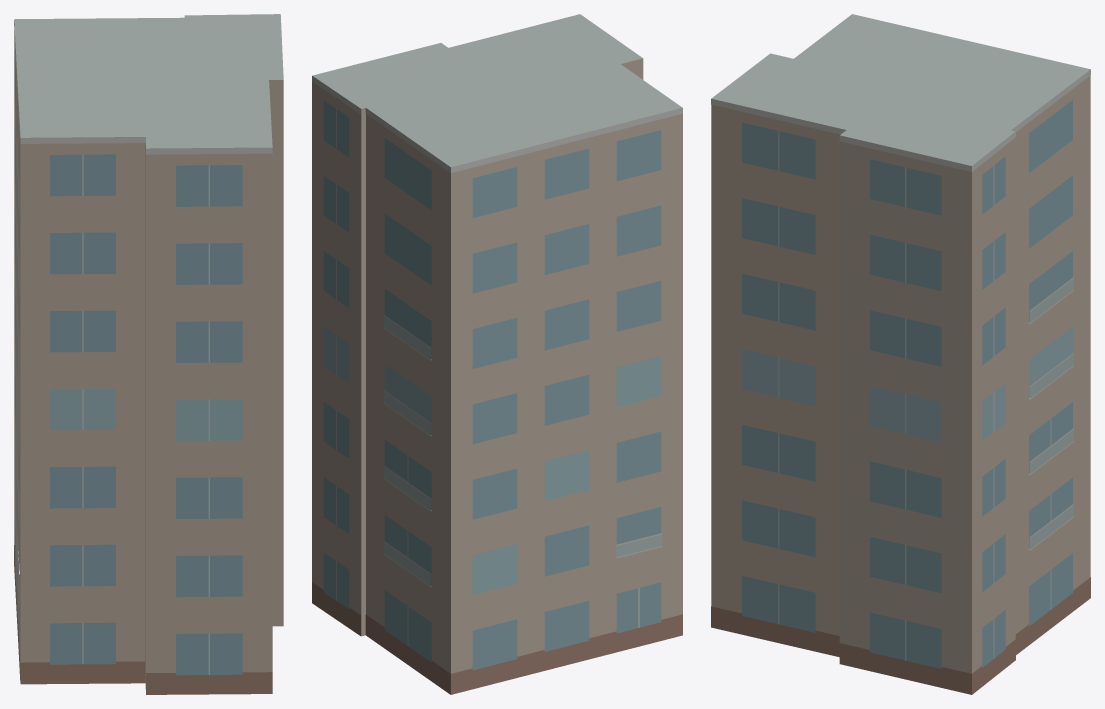
The model's file is survey-upis-32713622.glb.
3 renders of one model, left to right at view 1: azimuth 30°, elevation 25°; view 2: azimuth 150°, elevation 25°; view 3: azimuth 270°, elevation 25°, orthographic. The views are drawn at different scales.
Visible parts, largest first — view 1: survey-upis-32713622.tmp; view 2: survey-upis-32713622.tmp; view 3: survey-upis-32713622.tmp.
Boxes of the visible parts, x1=… form: survey-upis-32713622.tmp: x1=14, y1=14, x2=283, y2=694; survey-upis-32713622.tmp: x1=312, y1=14, x2=682, y2=694; survey-upis-32713622.tmp: x1=711, y1=14, x2=1090, y2=694.
Size of the model in its own units: 13.46 by 21.8 by 14.19.
